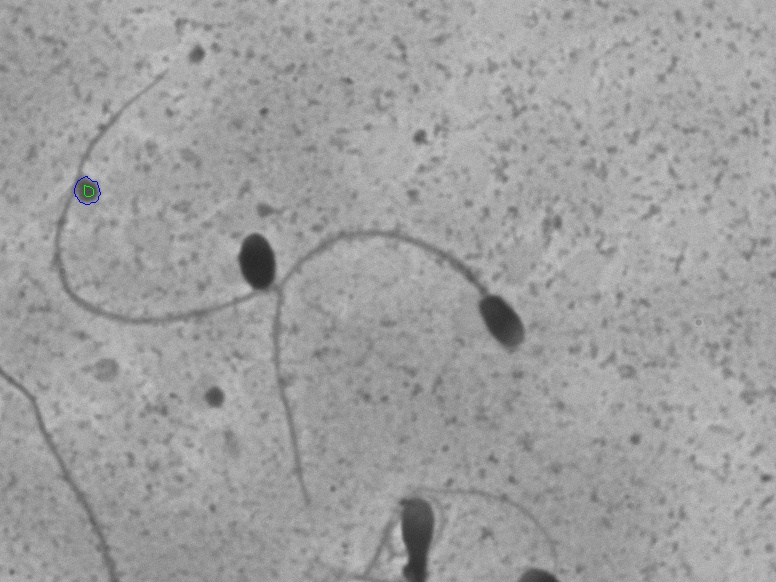Abnormal: (32, 57, 283, 354)
Normal: (250, 205, 548, 565)
